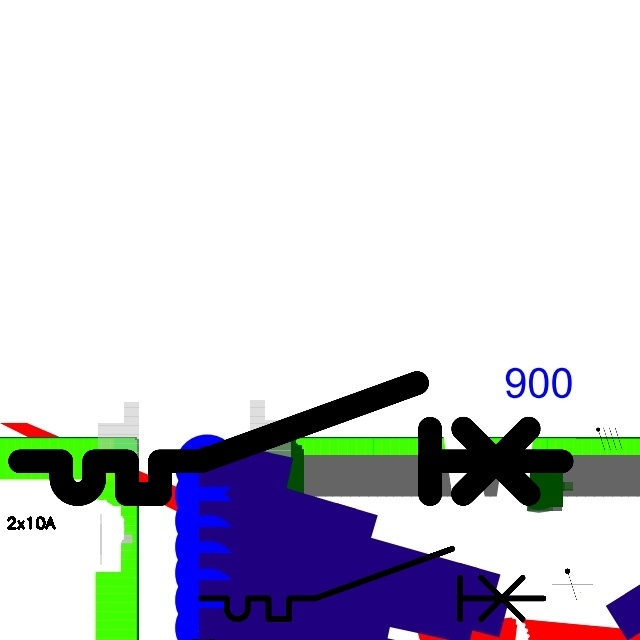interruptor_termomagnetico: (6, 369, 576, 508), (192, 540, 552, 628)
